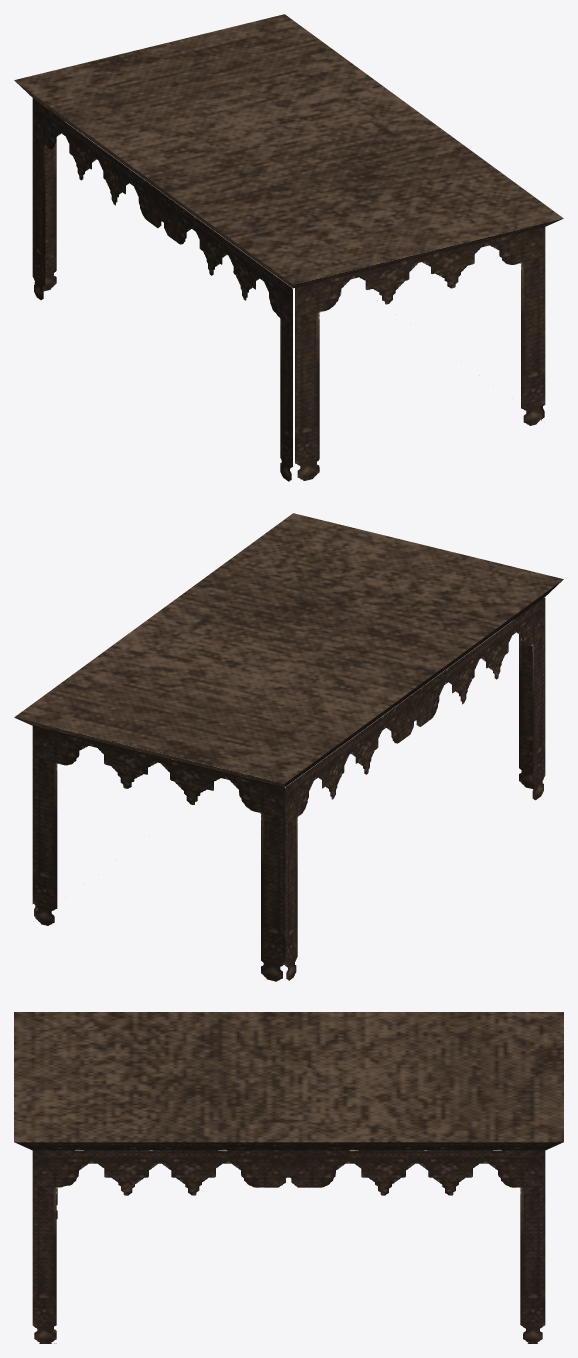
Rendered from mesa.fbx.
The picture shows the model from 3 angles, top to bottom: view 1: azimuth 30°, elevation 25°; view 2: azimuth 150°, elevation 25°; view 3: azimuth 270°, elevation 25°; orthographic projection.
Visible parts, largest first — view 1: silla1.001; view 2: silla1.001; view 3: silla1.001.
Boxes of the visible parts, bbox=[...] form: silla1.001: bbox=[14, 14, 563, 481]; silla1.001: bbox=[14, 513, 563, 981]; silla1.001: bbox=[14, 1012, 563, 1343].
Bounding box in the file's own units: 240 × 134 × 99.05.
Materials: 1 (1 with a texture image).
